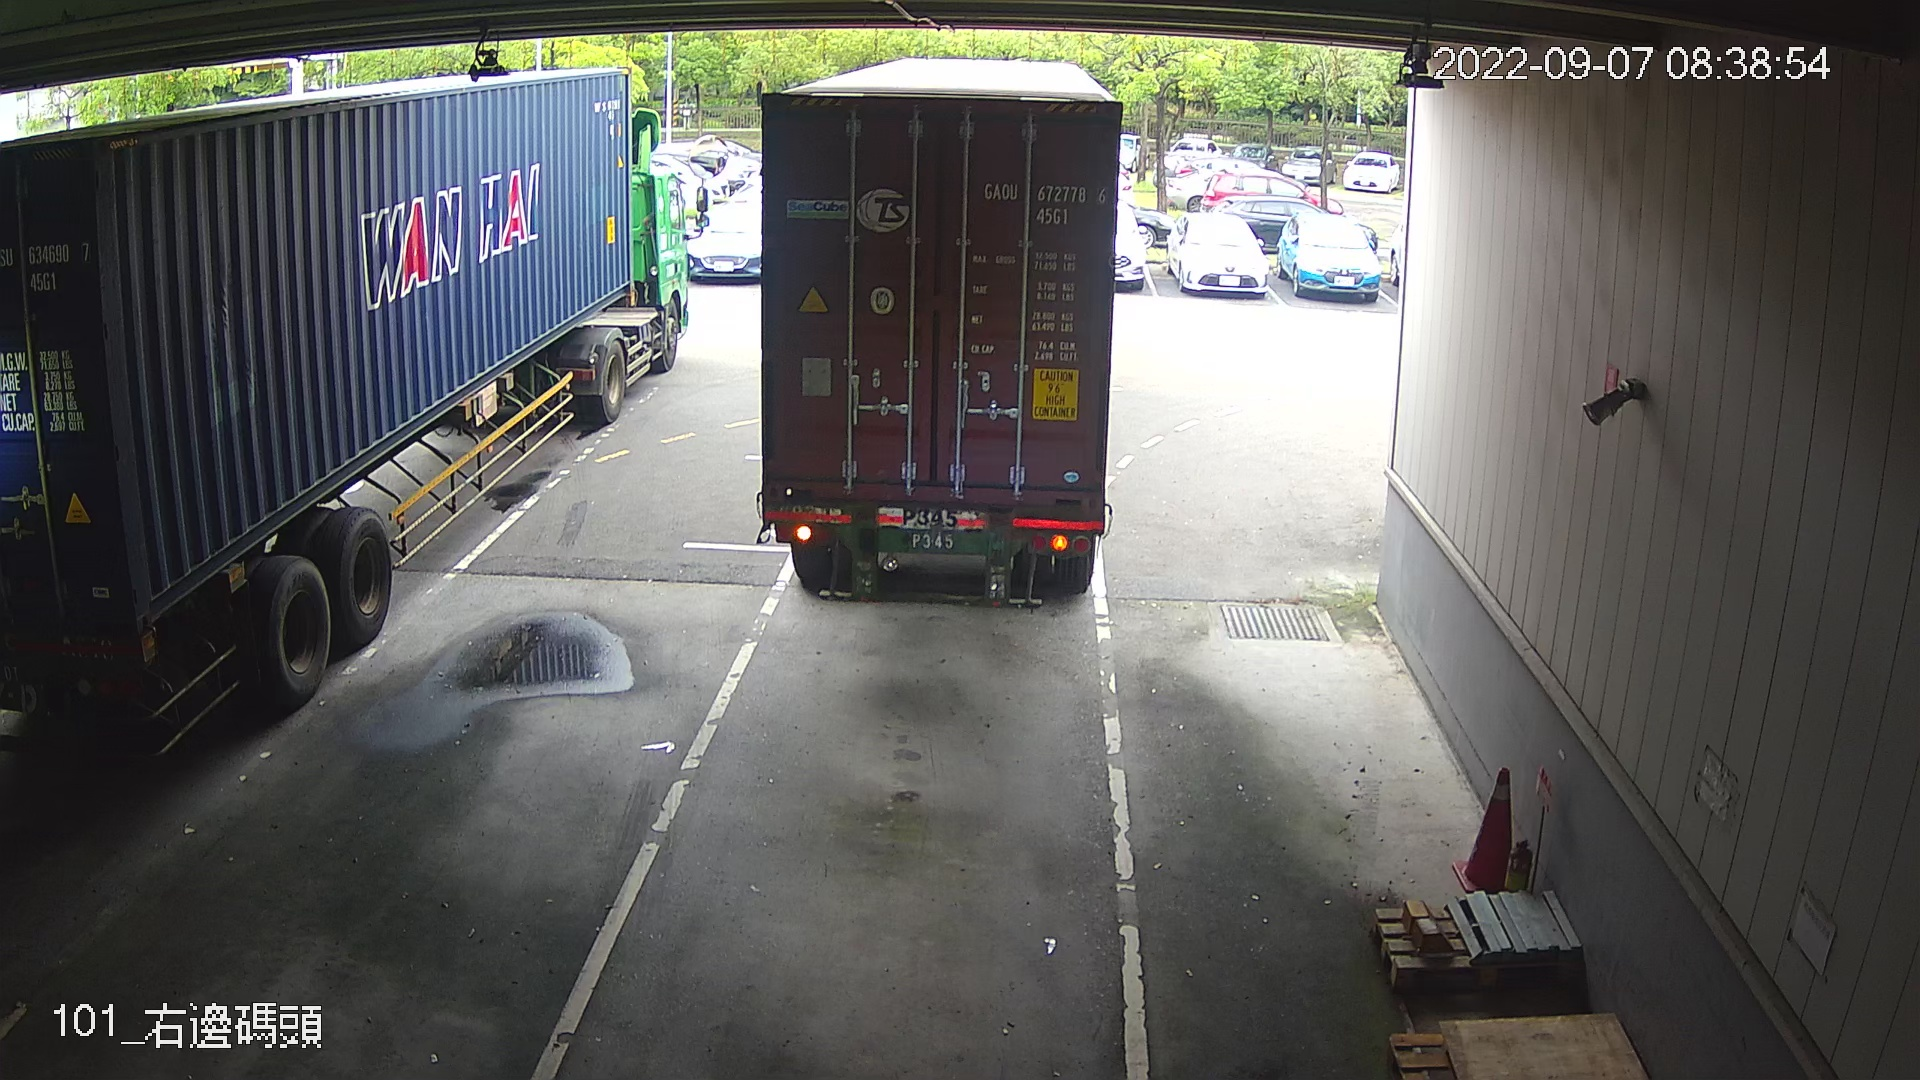container: (973, 174, 1112, 233)
